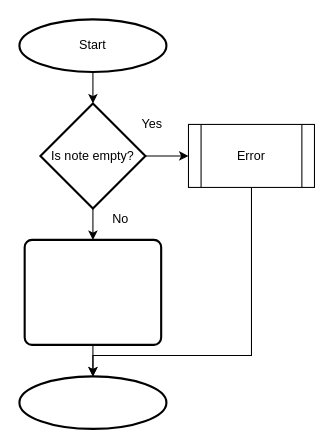
Some shapes in this 333 by 447 pixel diagram are drawn without their labels. The shapes that lost their labels are listed below. From the top down, each one's box as (x1, y1, x2, y2) in pixels, then its label:
(23, 238, 162, 345): Send POST request to discord webhook endpoint
(18, 375, 167, 429): Stop
